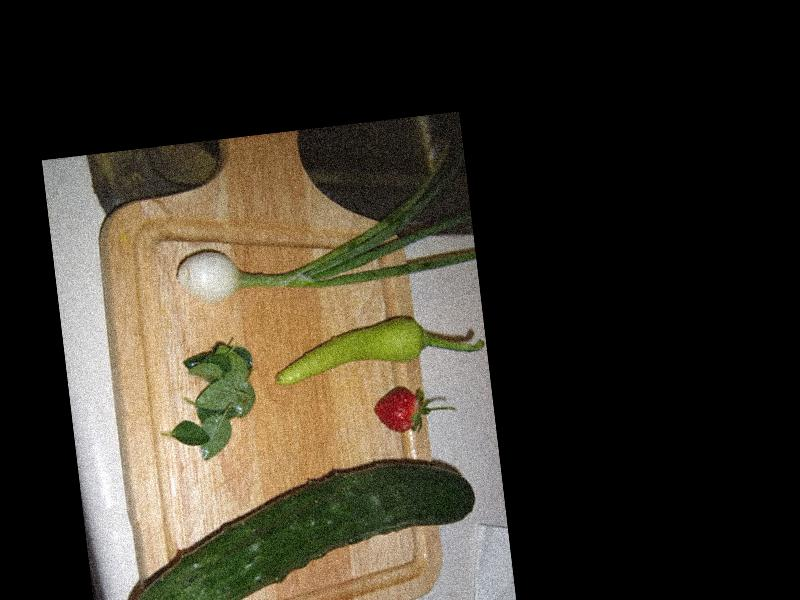Cucumber: (117, 453, 485, 600)
